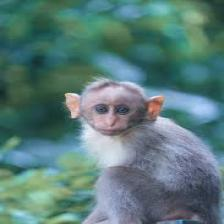monkey: (40, 62, 224, 224)
